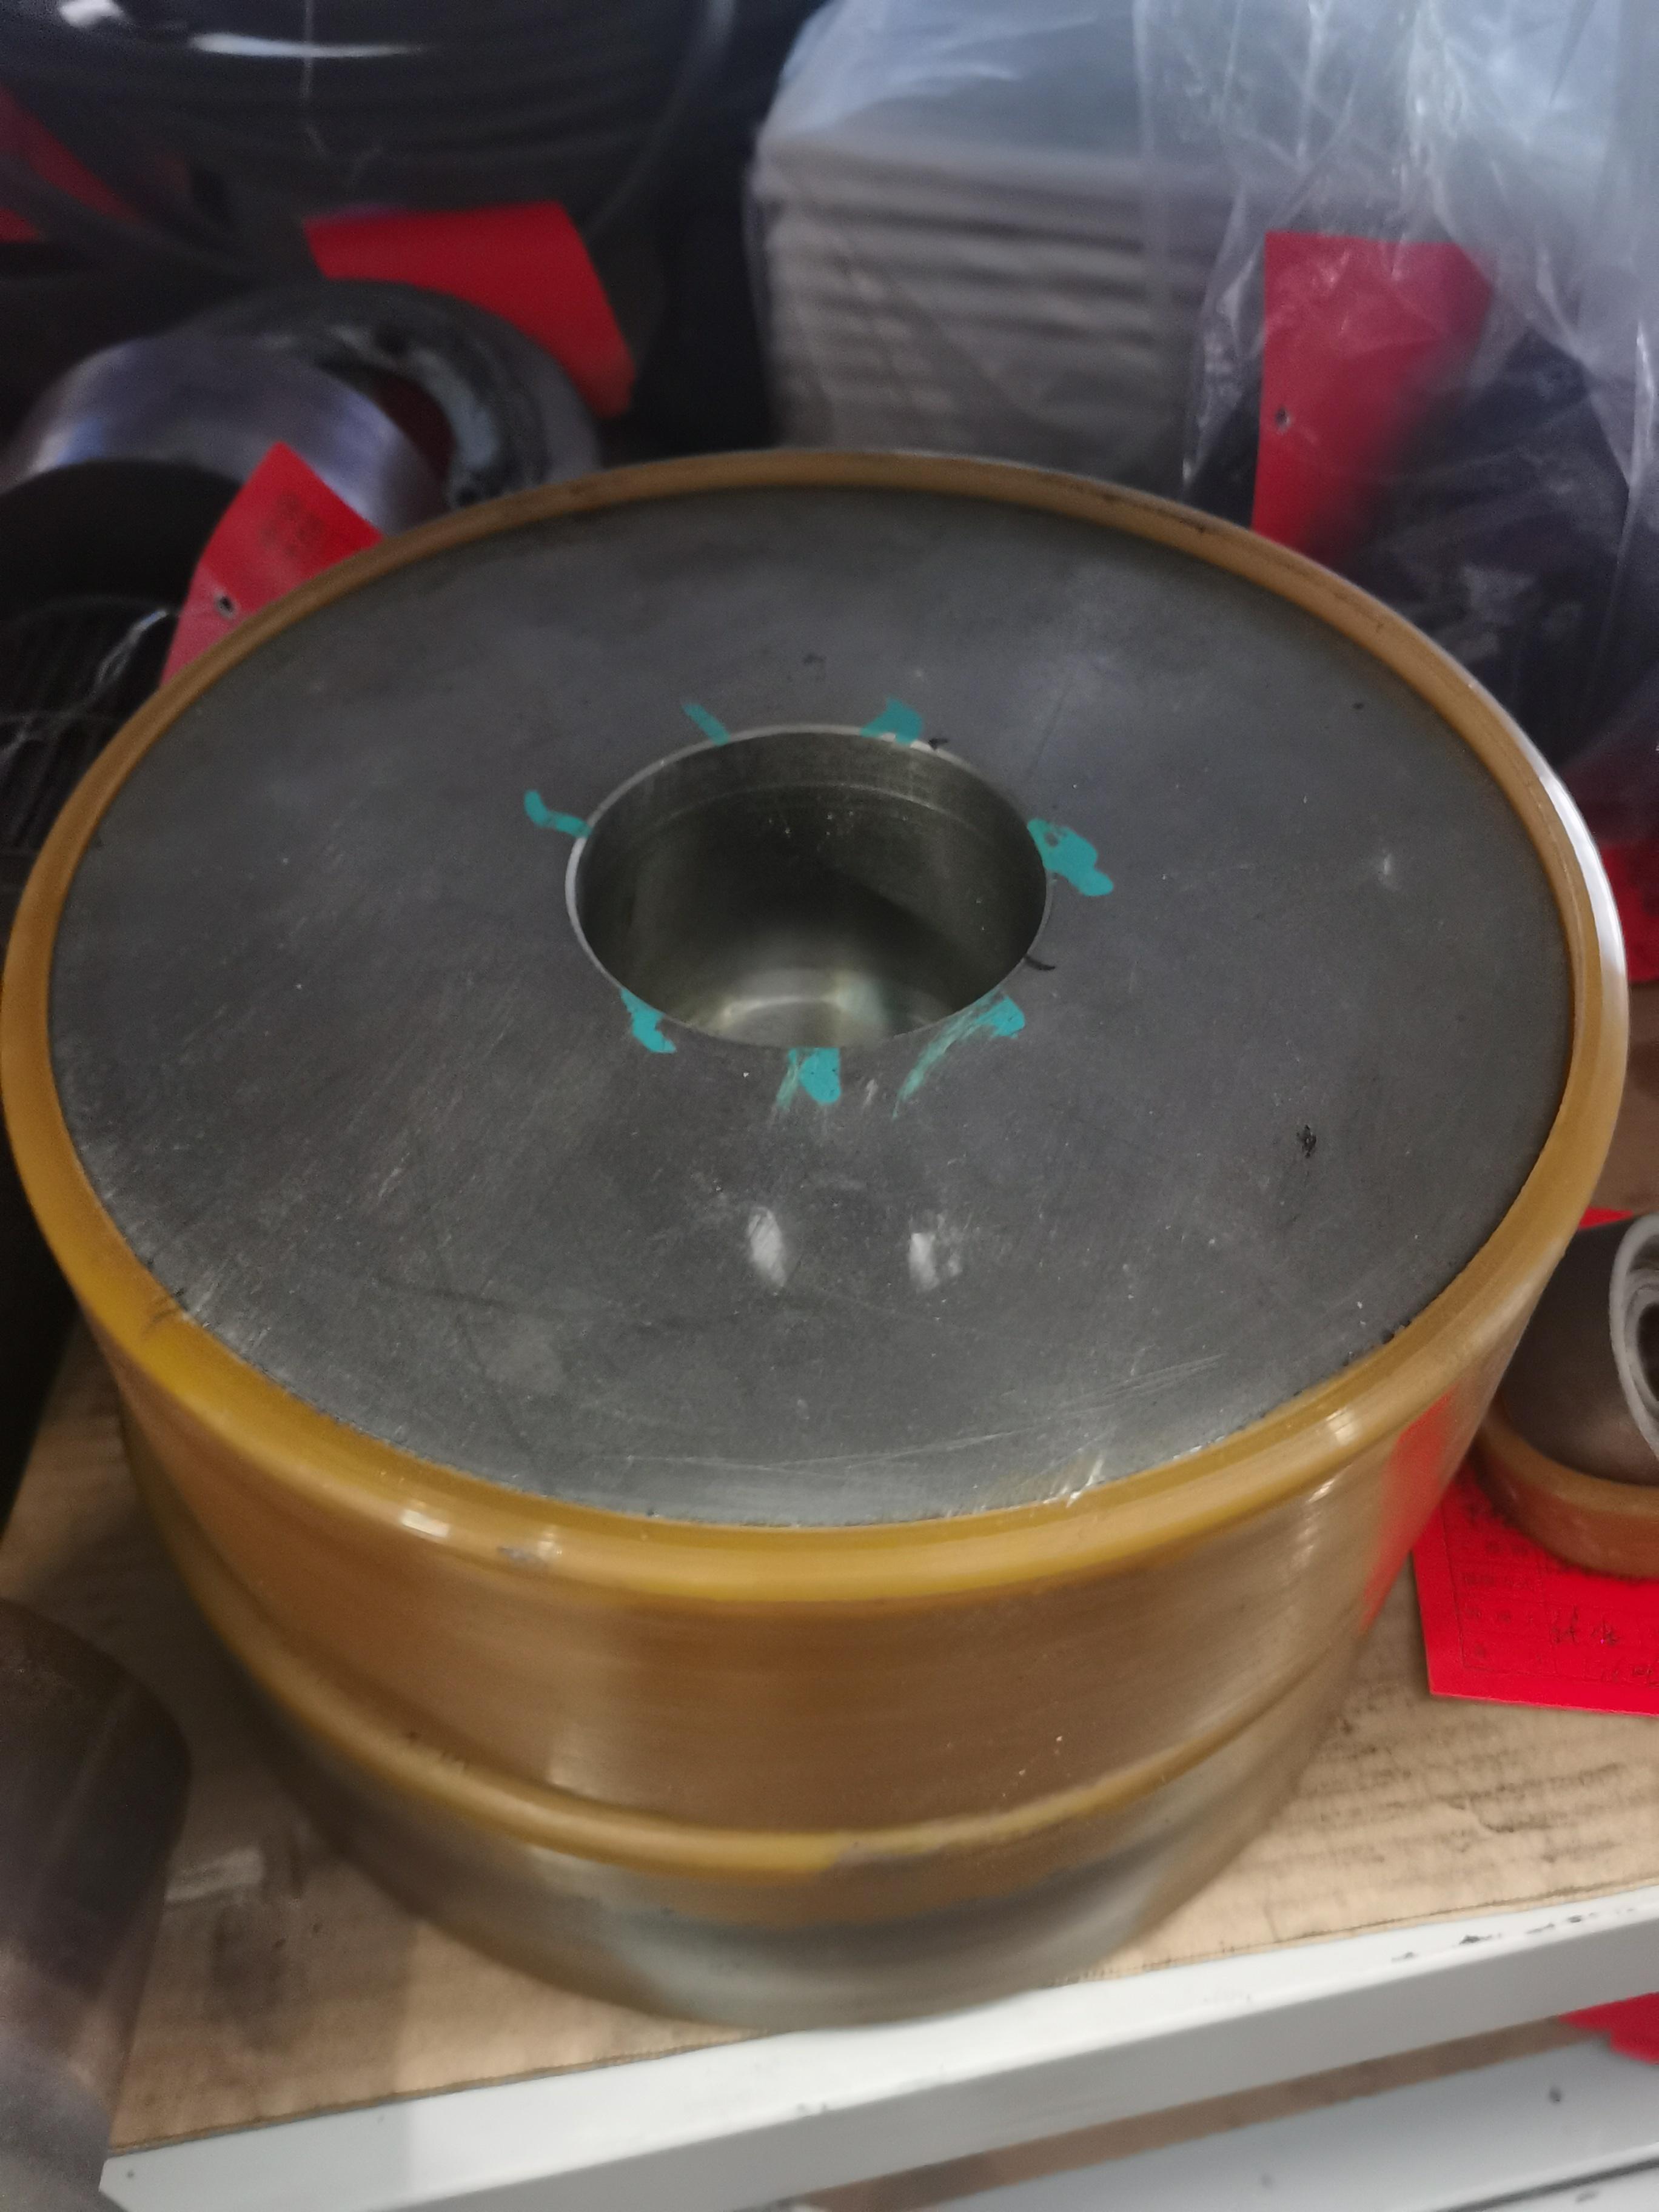bad_wheel: (680, 401, 1230, 583), (1368, 578, 1589, 871)
